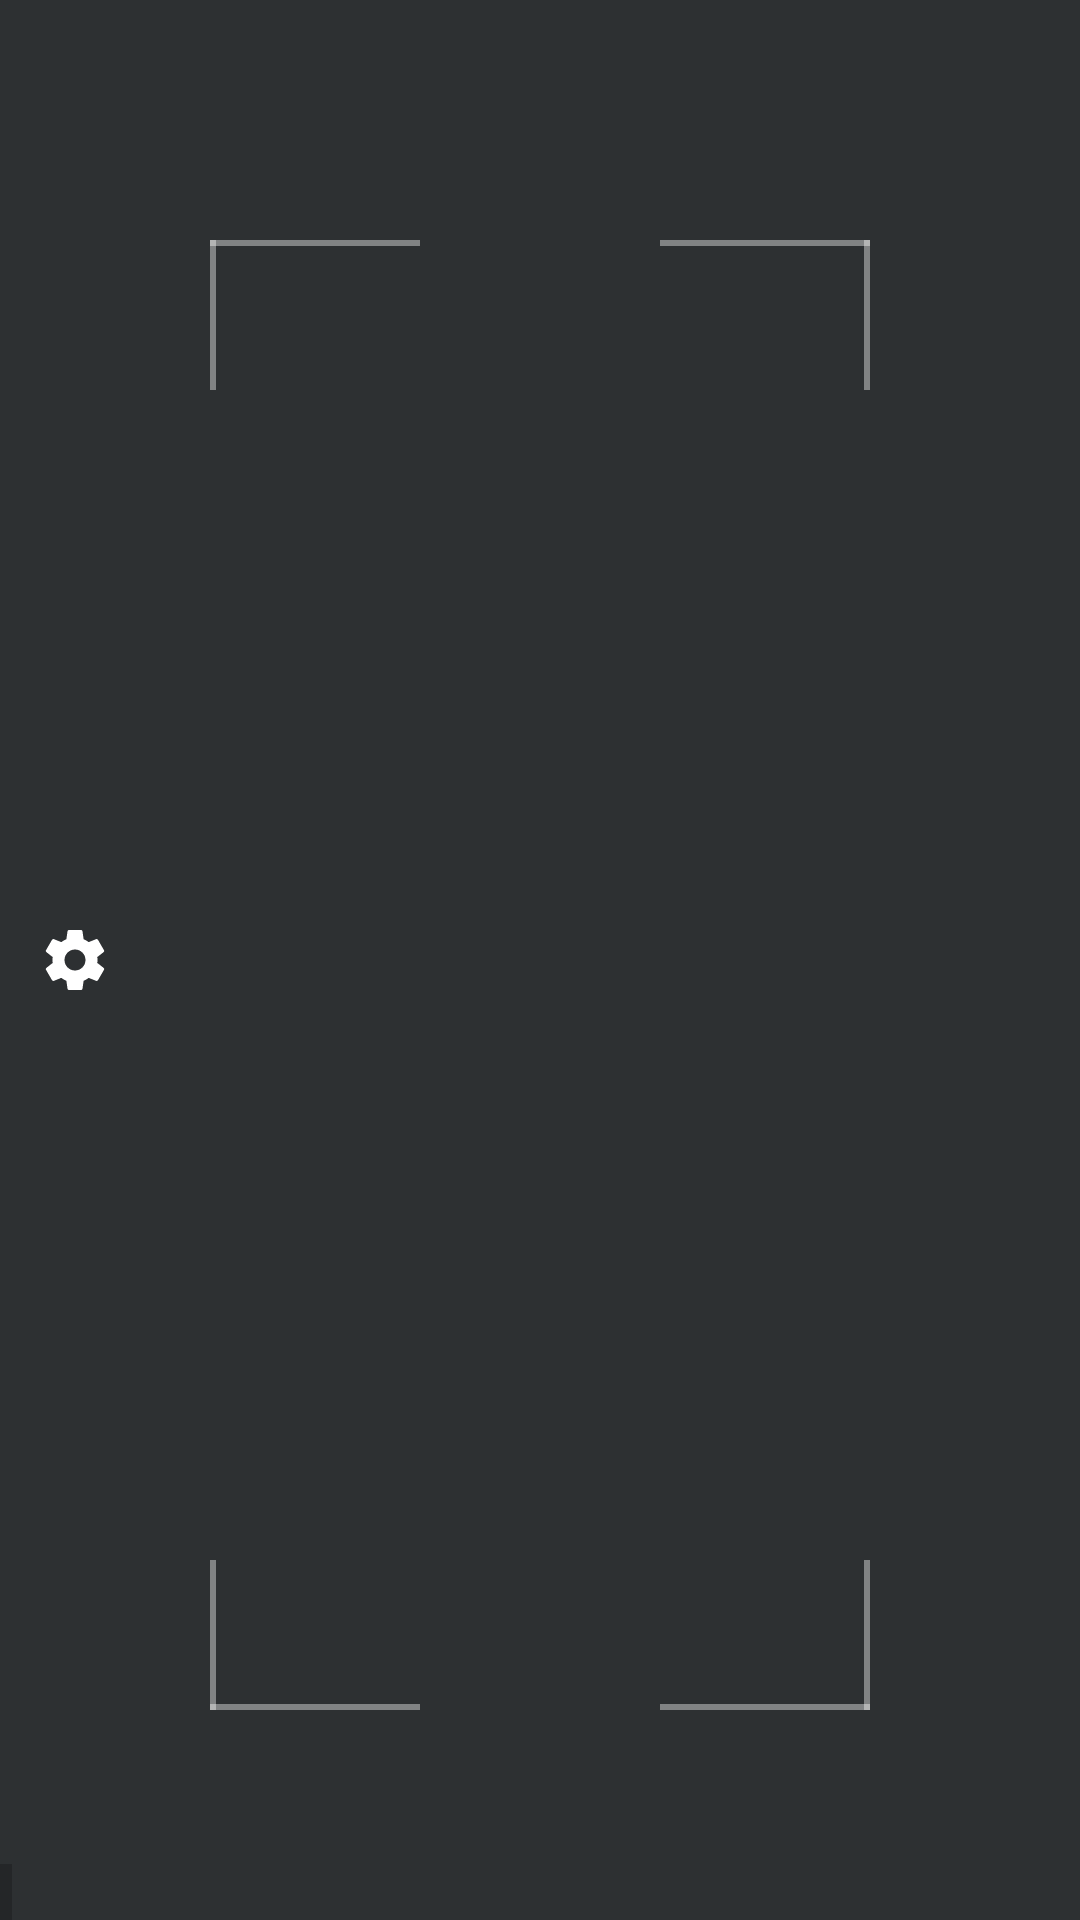

Icon bounding boxes for this 1080×1920 phone screenshot, format (x1, y1, x2, y2):
settings: (45, 930, 104, 990)
